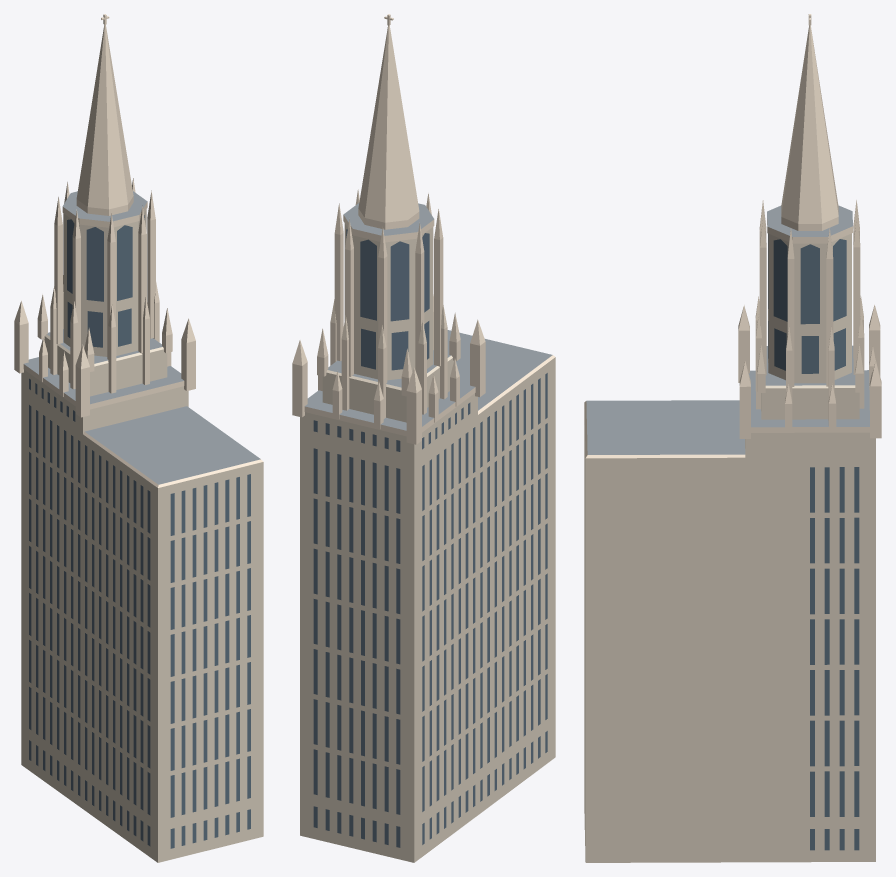
Rendered from detail.glb.
3 renders of one model, left to right at view 1: azimuth 30°, elevation 25°; view 2: azimuth 150°, elevation 25°; view 3: azimuth 270°, elevation 25°, orthographic. The views are drawn at different scales.
Parts seen in each view (by area): view 1: chicago-temple-building; view 2: chicago-temple-building; view 3: chicago-temple-building.
Part boxes in pixels (bbox=[...]): chicago-temple-building: bbox=[14, 14, 263, 862]; chicago-temple-building: bbox=[292, 14, 555, 862]; chicago-temple-building: bbox=[584, 14, 881, 862].
Bounding box in the file's own units: 27.84 × 173 × 56.93.
